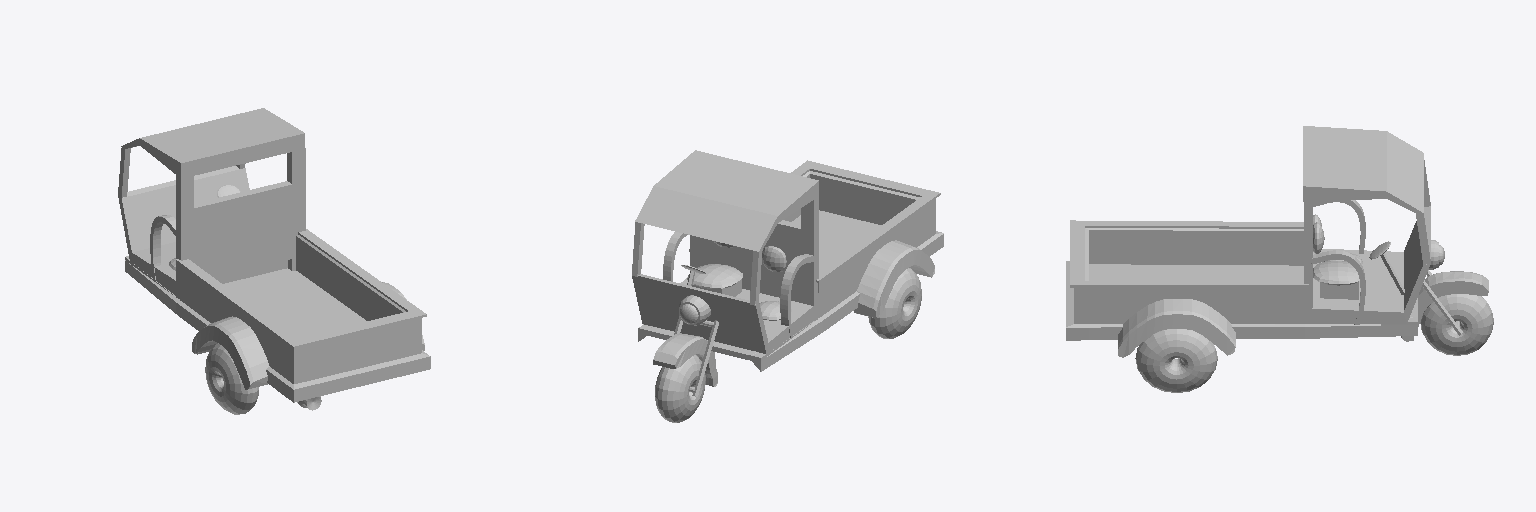
The model's file is SmallPickup.obj.
The picture shows the model from 3 angles: view 1: azimuth 30°, elevation 25°; view 2: azimuth 150°, elevation 25°; view 3: azimuth 270°, elevation 25°; orthographic projection.
Parts seen in each view (by area): view 1: MainTrailer, Cab_BackMiddle, Cab_Top, Cab_Front, WheelRim_Back_Left, Wheel_Back_Left, Cab_BackPostLeft, Cab_BackPostRight, Railing_Passenger; view 2: MainTrailer, Cab_Top, Cab_Front, Cab_BackMiddle, WheelRim_Back_Left, Wheel_Front, Wheel_Back_Left, Cab_BackPostLeft, WheelRim_Front, Driver_Seat_Cushion, Railing_Passenger, Railing_Passanger; view 3: MainTrailer, Cab_Top, Cab_Front, Wheel_Back_Right, WheelRim_Back_Right, Wheel_Front, WheelRim_Front, Cab_BackPostRight, Driver_Seat_Cushion, Railing_Passanger, Hardware4.
Boxes of the visible parts, <box> form: MainTrailer: <box>125,229,430,402</box>; Cab_BackMiddle: <box>193,181,291,277</box>; Cab_Top: <box>121,108,304,178</box>; Cab_Front: <box>118,166,287,295</box>; WheelRim_Back_Left: <box>192,316,269,389</box>; Wheel_Back_Left: <box>205,343,258,414</box>; Cab_BackPostLeft: <box>176,175,193,298</box>; Cab_BackPostRight: <box>287,148,305,270</box>; Railing_Passenger: <box>150,215,175,281</box>; MainTrailer: <box>638,160,943,371</box>; Cab_Top: <box>635,150,818,251</box>; Cab_Front: <box>632,274,813,353</box>; Cab_BackMiddle: <box>702,220,801,302</box>; WheelRim_Back_Left: <box>854,240,934,317</box>; Wheel_Front: <box>655,355,705,422</box>; Wheel_Back_Left: <box>868,268,921,338</box>; Cab_BackPostLeft: <box>801,197,818,320</box>; WheelRim_Front: <box>653,333,717,386</box>; Driver_Seat_Cushion: <box>687,264,742,288</box>; Railing_Passenger: <box>780,254,813,338</box>; Railing_Passanger: <box>663,232,687,281</box>; MainTrailer: <box>1066,220,1417,340</box>; Cab_Top: <box>1303,126,1423,213</box>; Cab_Front: <box>1312,206,1430,323</box>; Wheel_Back_Right: <box>1135,329,1217,392</box>; WheelRim_Back_Right: <box>1118,299,1235,357</box>; Wheel_Front: <box>1420,294,1493,355</box>; WheelRim_Front: <box>1401,271,1488,341</box>; Cab_BackPostRight: <box>1304,202,1312,323</box>; Driver_Seat_Cushion: <box>1313,261,1359,285</box>; Railing_Passanger: <box>1311,250,1365,324</box>; Hardware4: <box>1320,281,1358,299</box>.
Bounding box in the file's own units: 5.51 × 5.81 × 11.33.